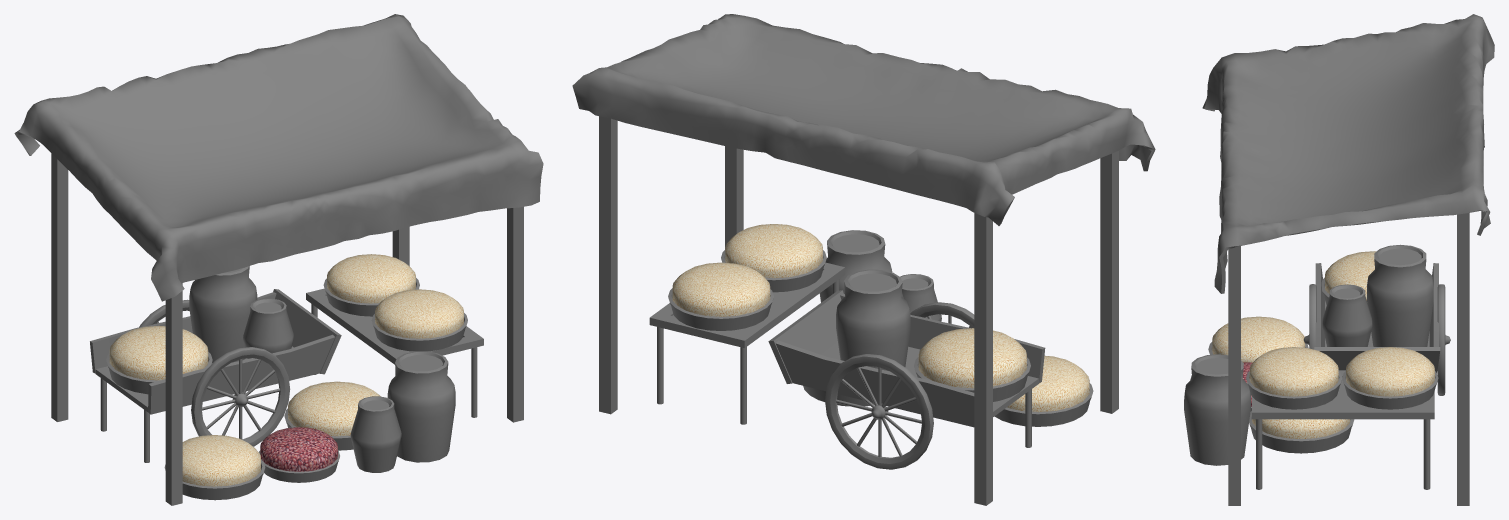
Rendered from SM_marketstand_preset_02.fbx.
3 views of the same model, side by side, from view 1: azimuth 30°, elevation 25°; view 2: azimuth 150°, elevation 25°; view 3: azimuth 270°, elevation 25° (orthographic). The views are drawn at different scales.
Parts seen in each view (by area): view 1: Object33225; view 2: Object33225; view 3: Object33225.
Part boxes in pixels (x1,y1,x2,y2): Object33225: (14, 14, 543, 505); Object33225: (572, 14, 1155, 505); Object33225: (1184, 14, 1494, 505).
Size of the model in its own units: 184 by 141 by 125.
